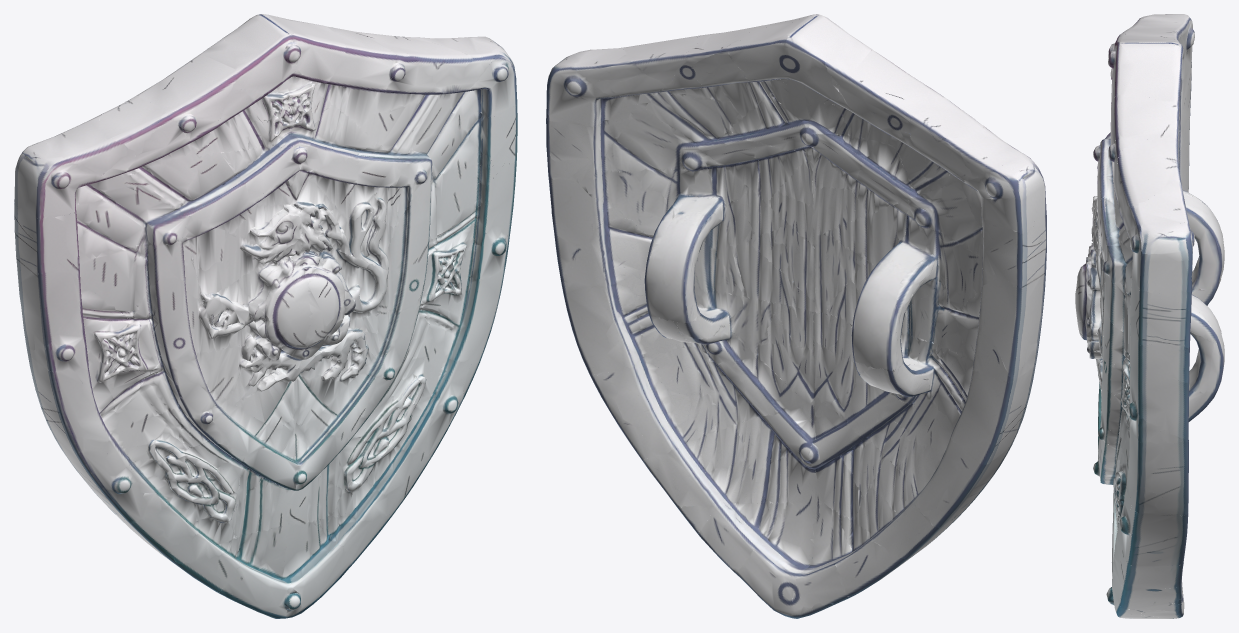
Rendered from tarcza_model.glb.
3 views of the same model, side by side, from view 1: azimuth 30°, elevation 25°; view 2: azimuth 150°, elevation 25°; view 3: azimuth 270°, elevation 25° (orthographic). The views are drawn at different scales.
Parts seen in each view (by area): view 1: Mesh_0; view 2: Mesh_0; view 3: Mesh_0.
Boxes of the visible parts, <box> form: Mesh_0: <box>14,14,517,618</box>; Mesh_0: <box>546,14,1046,618</box>; Mesh_0: <box>1075,14,1224,618</box>.
Size of the model in its own units: 1.62 by 1.9 by 0.4482.
1 material, 1 textured.
